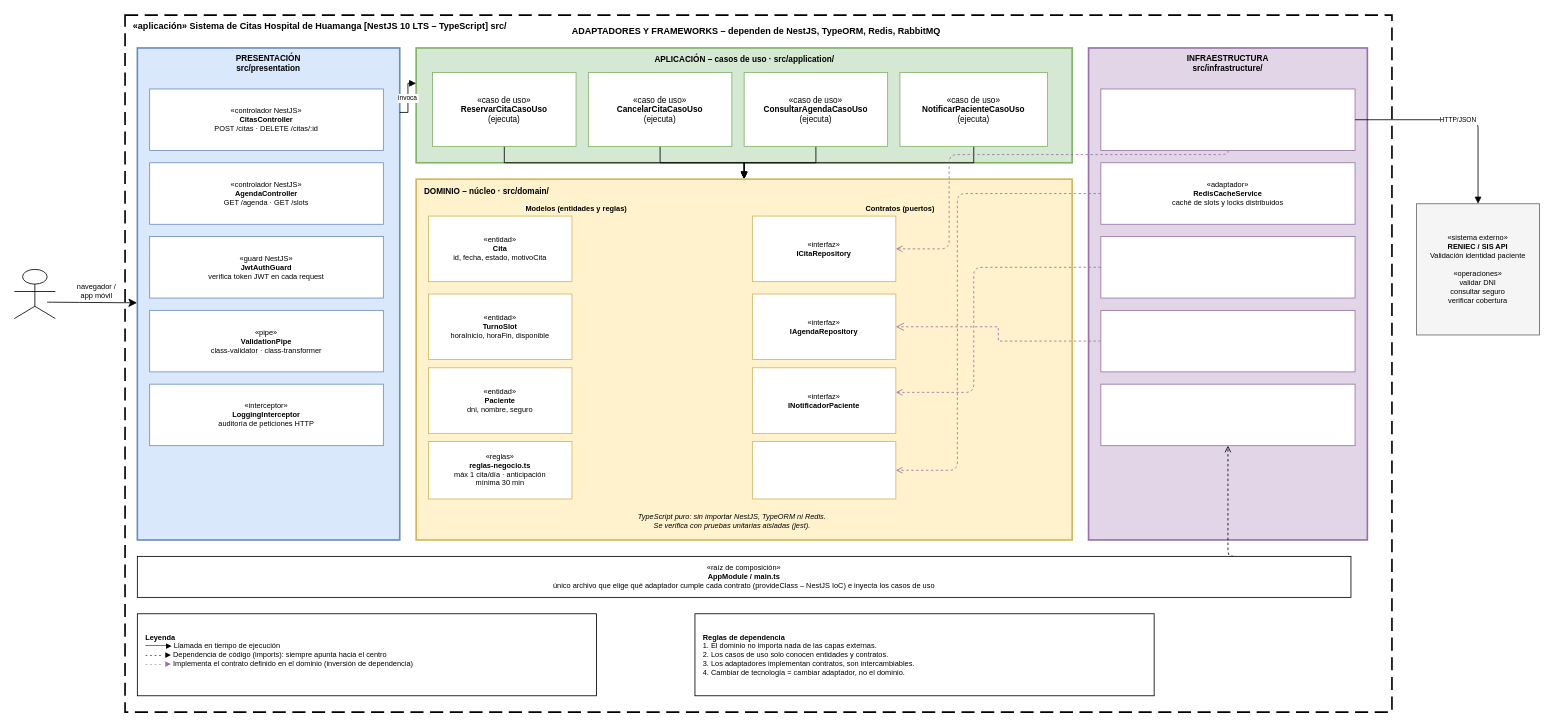
The diagram is 1554 pixels wide and 727 high, and some of its shapes have lost their labels. Each missing label, with the centre of its shape:
"Usuario (Paciente)" goes at point (34, 294).
"«adaptador» RabbitMQEventBus publicación de eventos de citas" goes at point (1227, 341).
"«adaptador» TypeOrmCitaRepository TypeOrmAgendaRepository" goes at point (1227, 119).
"«adaptador» WhatsAppNotificador NotificadorSMS" goes at point (1227, 267).
"«interfaz» ICacheService" goes at point (824, 470).
"«NestJS DI» AppModule inyecta adaptadores en casos de uso" goes at point (1227, 414).
